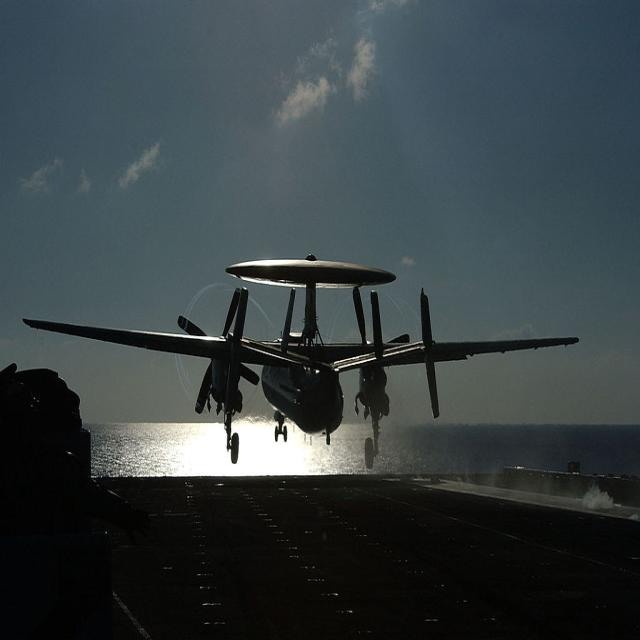MIL_Plane: (17, 253, 574, 470)
